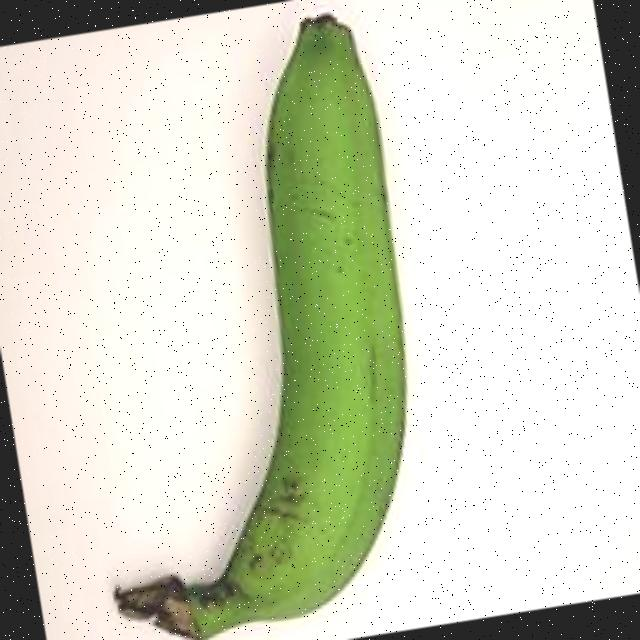Raw: (14, 0, 471, 640)
